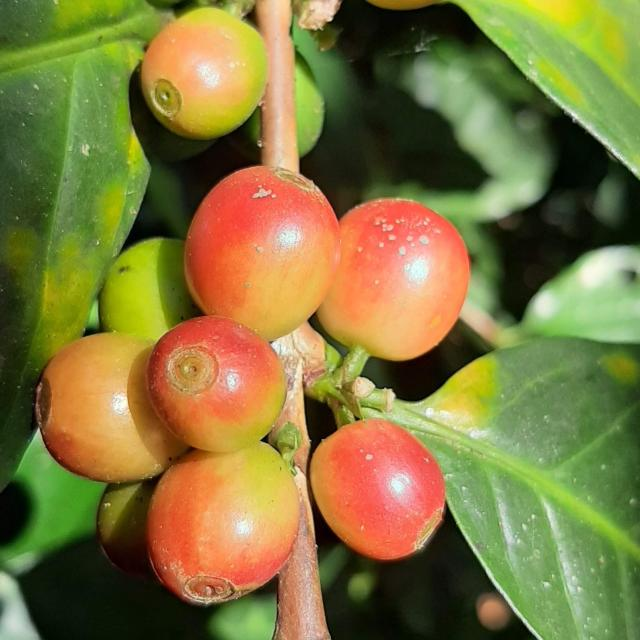green: (98, 237, 200, 341), (295, 51, 325, 156), (229, 107, 260, 161)
yellow: (184, 165, 340, 341), (317, 198, 470, 361), (146, 443, 299, 606), (34, 333, 188, 483), (310, 419, 446, 562), (146, 316, 286, 453), (141, 7, 267, 139)
